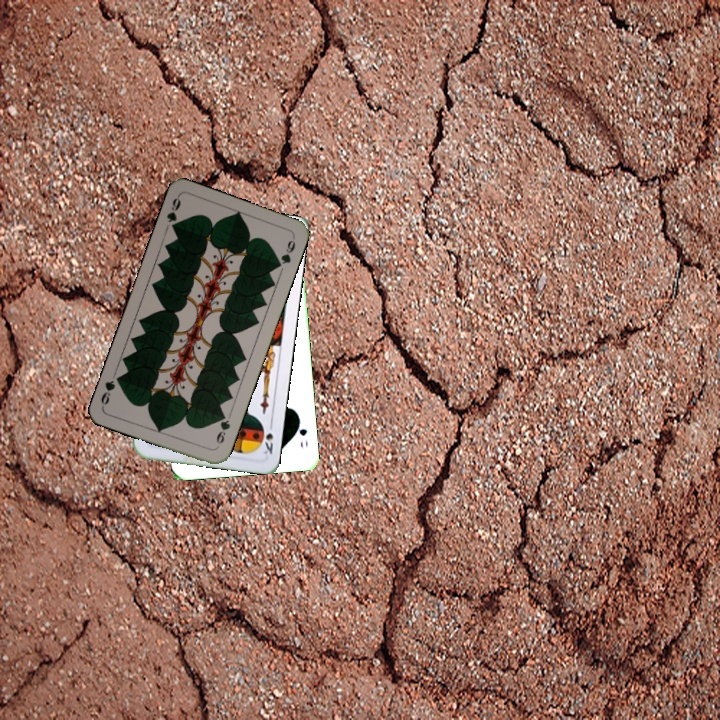G9: (163, 192, 183, 234), (212, 409, 233, 447)
GO: (292, 414, 310, 451)
SK: (260, 418, 276, 457)
